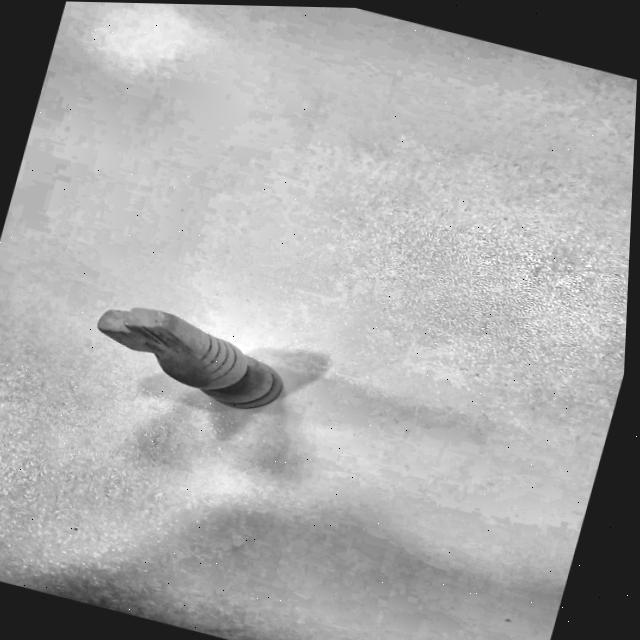white-knight: (11, 253, 356, 462)
